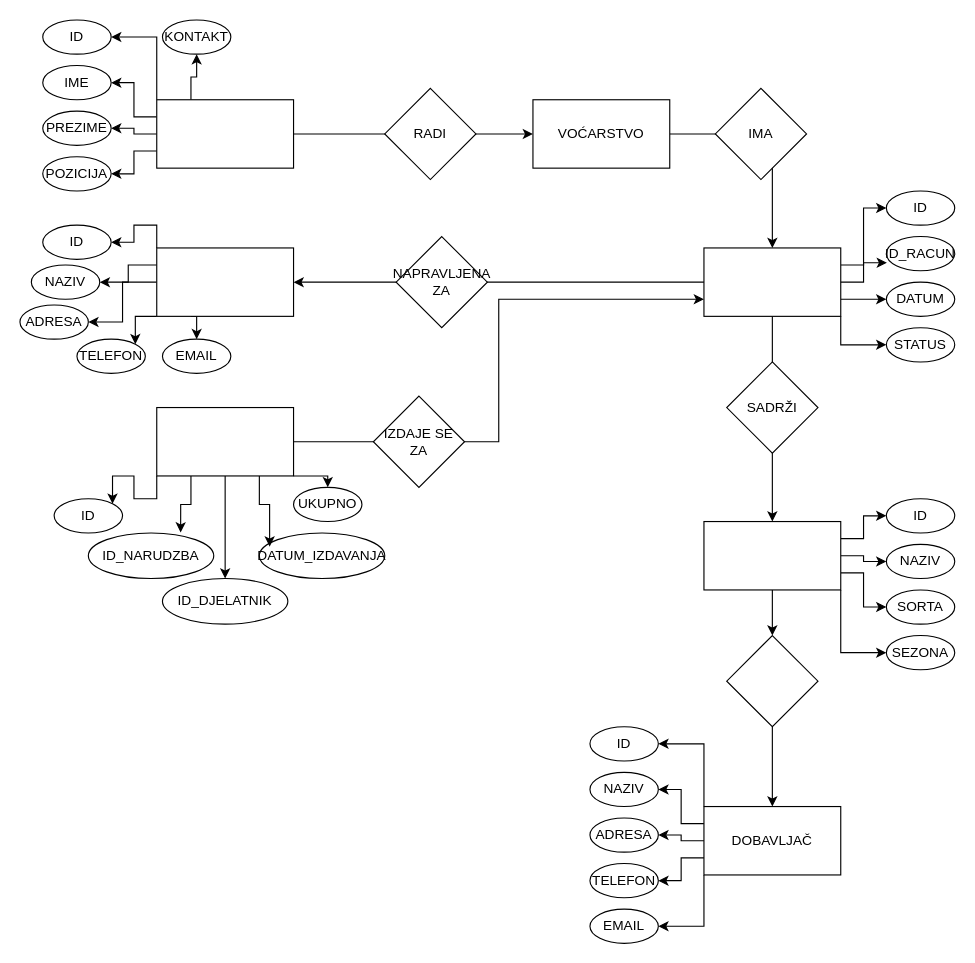
This 975x963 diagram has some shape labels left out. Here are the shapes that lost their labels. From the top down, the centre of each, then its label:
pixel 225 133: DJELATNIK
pixel 225 281: KUPAC
pixel 772 281: NARUDŽBA
pixel 225 441: RAČUN
pixel 772 555: VOĆE
pixel 772 680: NABAVLJENO OD
